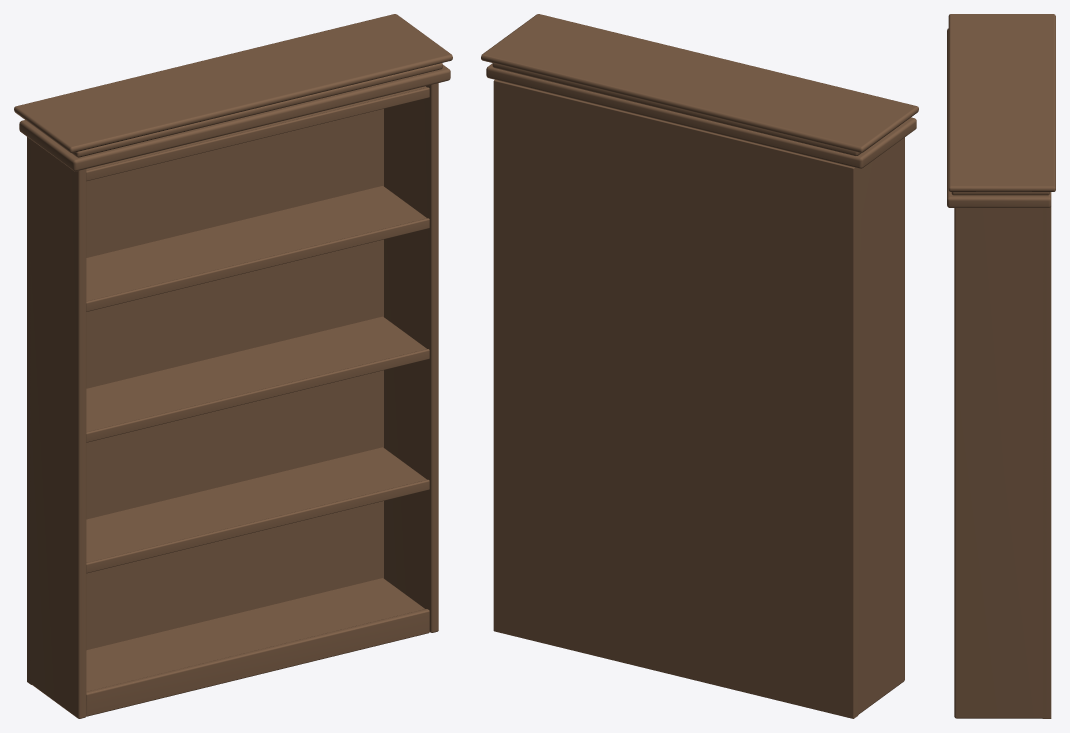
Rendered from lp_bookshelf.glb.
3 renders of one model, left to right at view 1: azimuth 30°, elevation 25°; view 2: azimuth 150°, elevation 25°; view 3: azimuth 270°, elevation 25°, orthographic. The views are drawn at different scales.
Parts seen in each view (by area): view 1: lp_bookshelf; view 2: lp_bookshelf; view 3: lp_bookshelf.
Boxes of the visible parts, bbox=[...] form: lp_bookshelf: bbox=[14, 14, 452, 718]; lp_bookshelf: bbox=[481, 14, 918, 718]; lp_bookshelf: bbox=[947, 14, 1055, 718].
Size of the model in its own units: 1.38 by 1.99 by 0.365.
